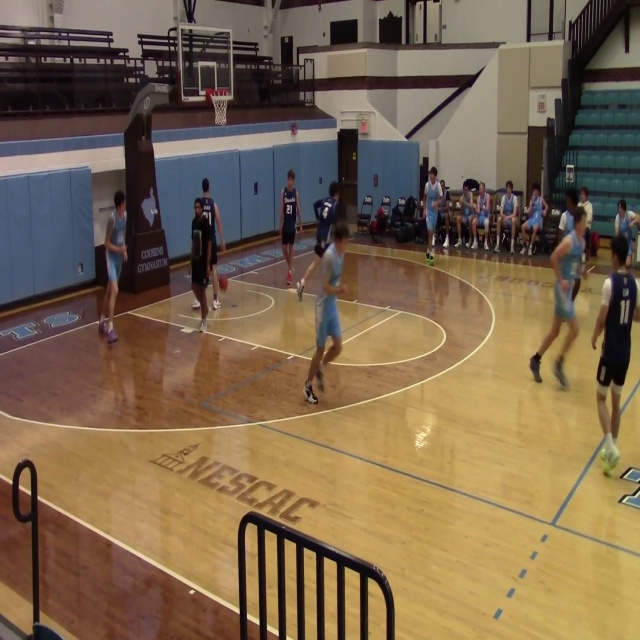Basketball: (601, 445, 620, 473), (218, 276, 228, 290)
